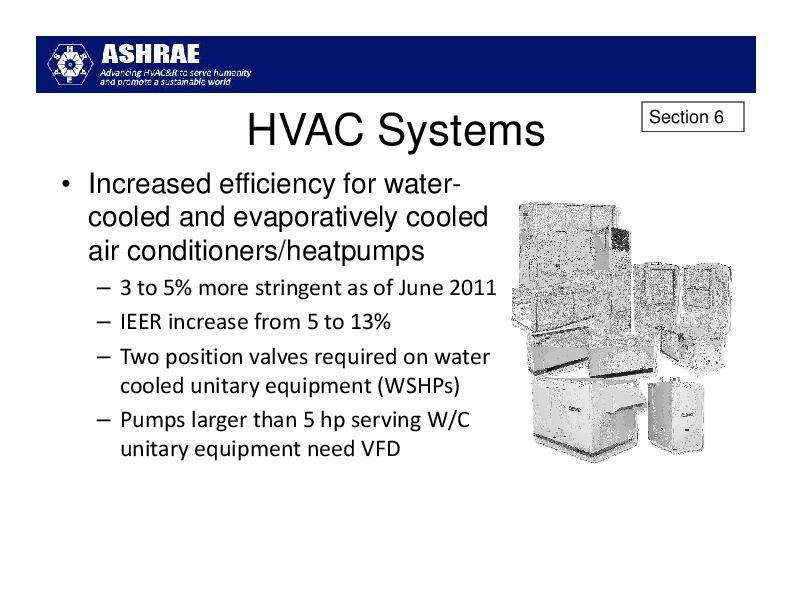paragraph: (79, 164, 528, 479)
subtitle: (240, 99, 556, 161)
title: (40, 38, 272, 97)
